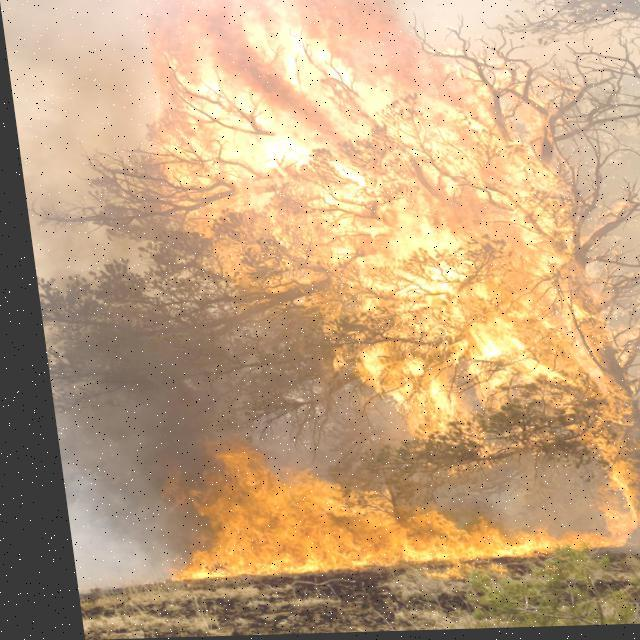Fire: (94, 0, 639, 570)
